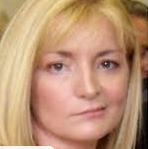strokeEyeWeak: (40, 48, 123, 78)
strokeMouthWeak: (69, 105, 112, 121)
